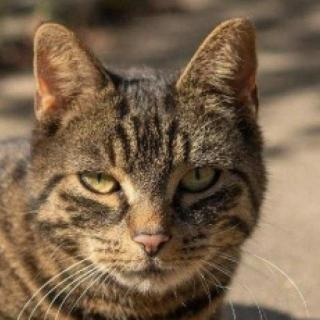cat: (23, 14, 272, 300)
nose: (125, 204, 180, 260)
